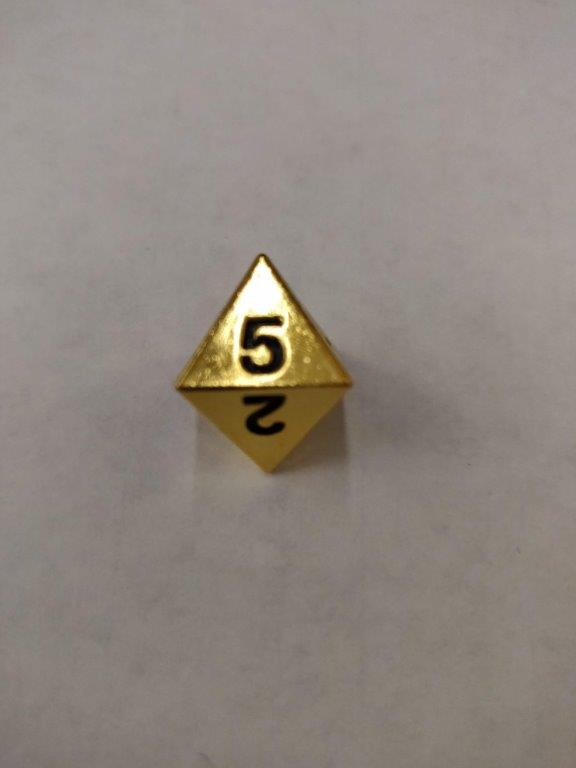d8-5: (169, 252, 357, 474)
